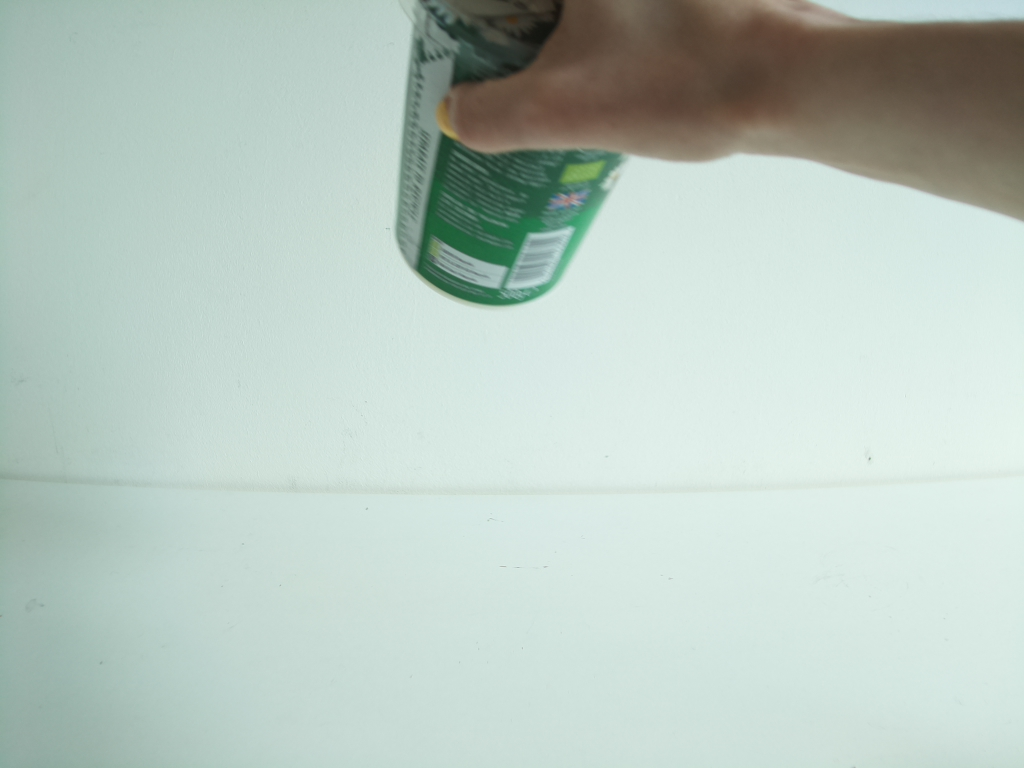yogurt: (384, 1, 631, 319)
